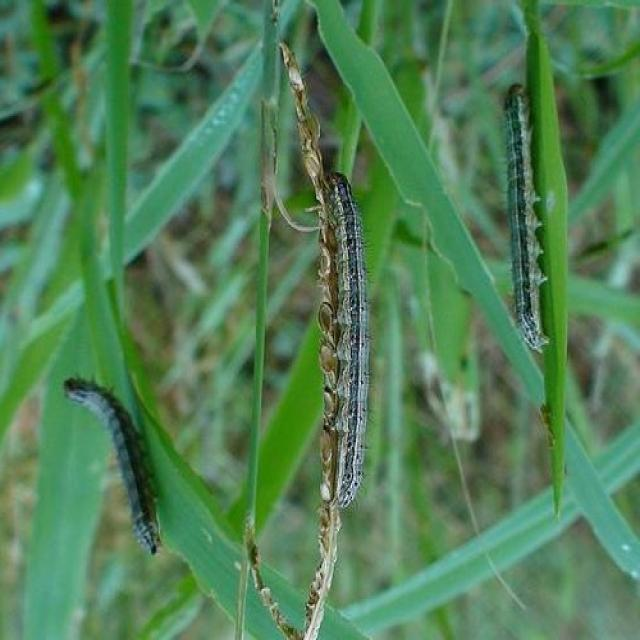army worm: (310, 161, 374, 513), (59, 378, 169, 566), (491, 80, 553, 355)
